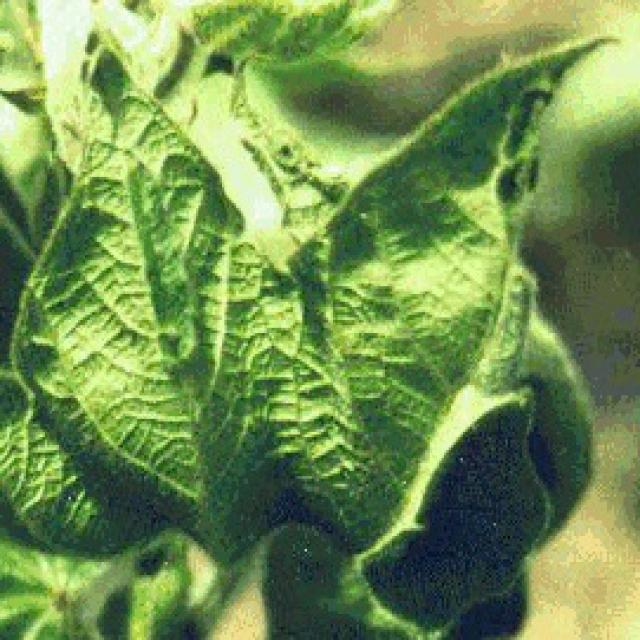Leaf Curl Virus: (62, 121, 523, 591)
